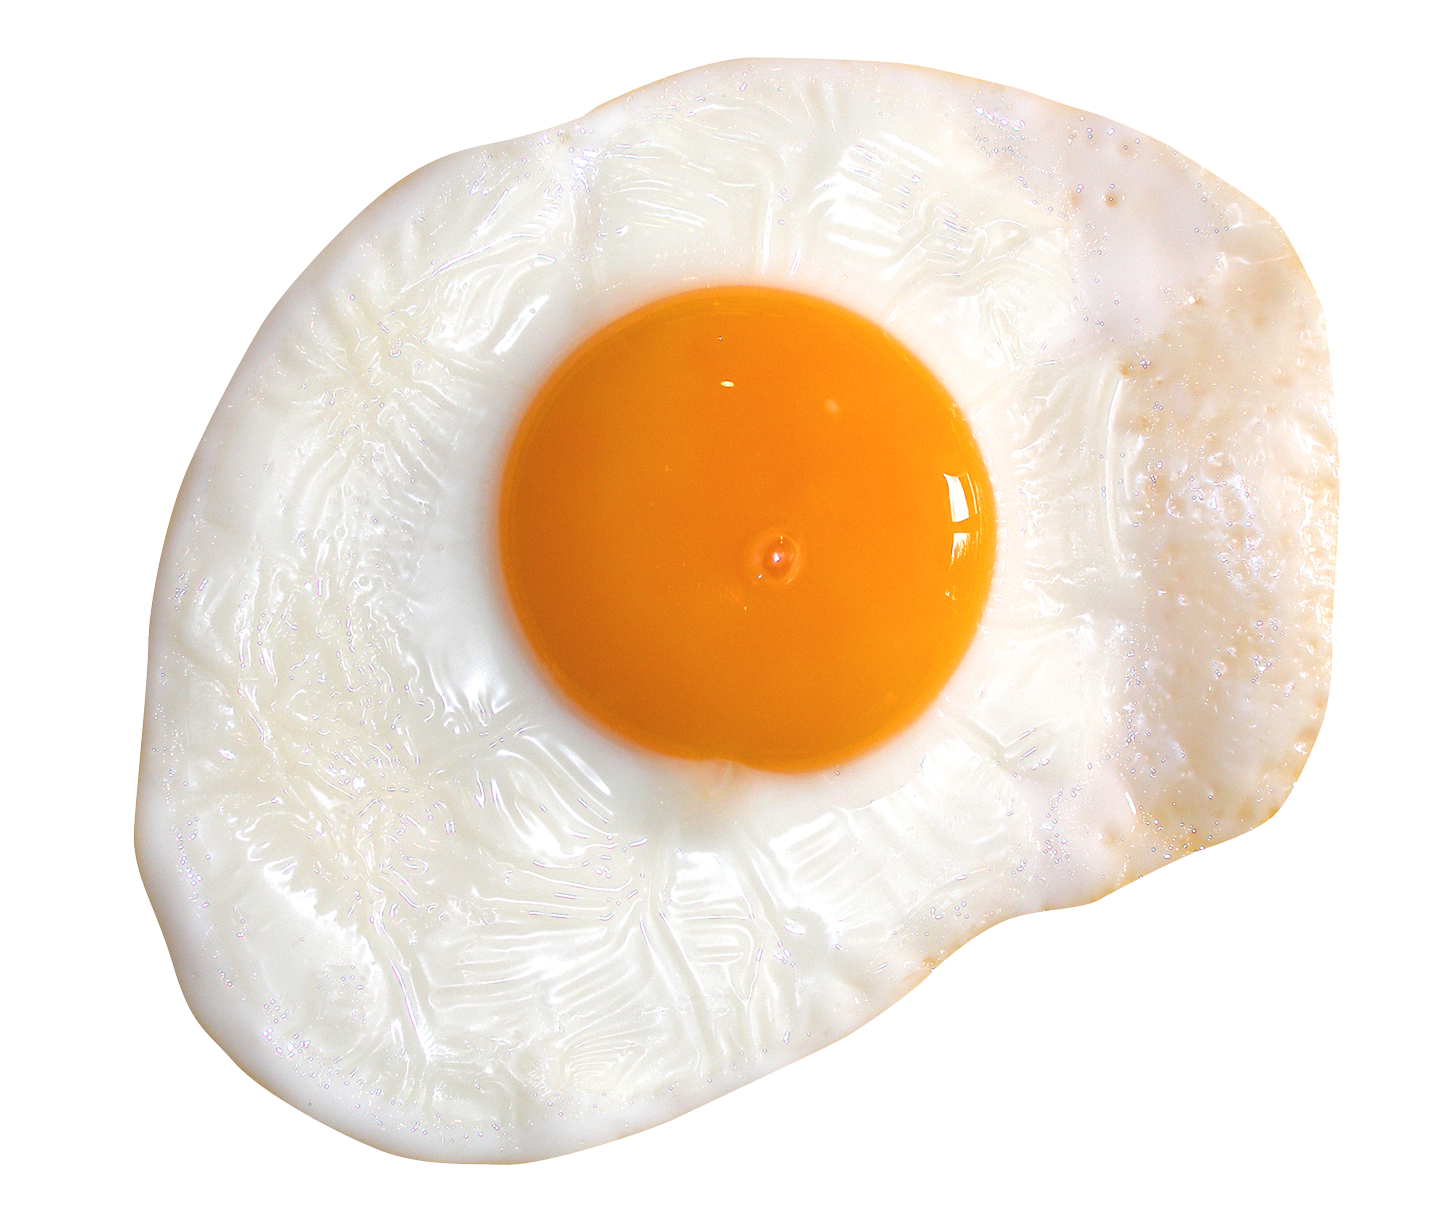fried egg: (165, 119, 1310, 1019)
